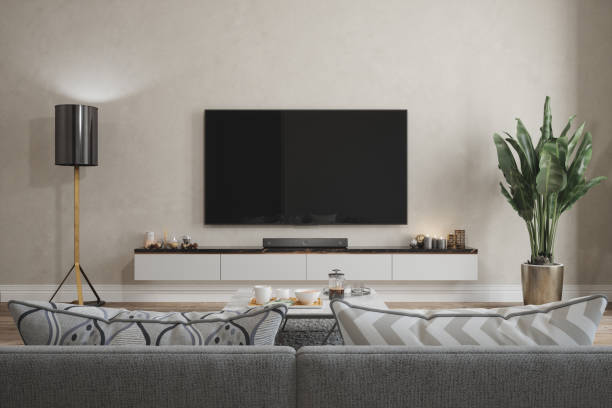TV: (201, 104, 409, 227)
TV stand: (129, 244, 480, 285)
floor lamp: (45, 101, 105, 304)
large plant: (491, 92, 605, 303)
sofa: (0, 293, 612, 408)
table: (224, 284, 380, 342)
